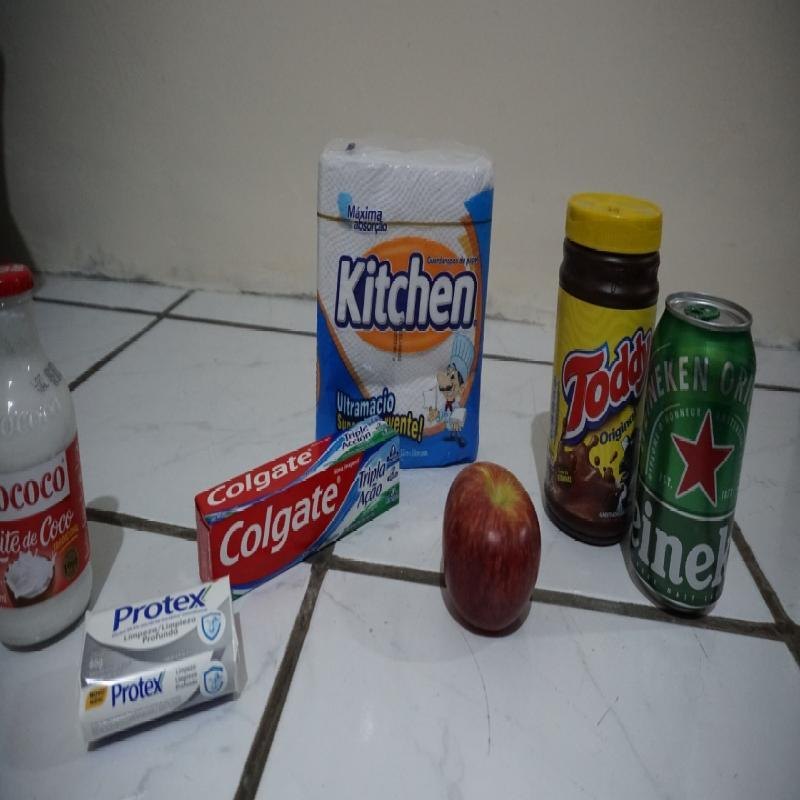Apple: (442, 457, 543, 632)
Beer can: (642, 291, 757, 612)
Chocolate Powder: (552, 192, 639, 541)
Coconut Milk: (0, 261, 82, 642)
Napkin: (318, 140, 495, 400)
Soap: (82, 574, 243, 738)
Toothpaste: (194, 416, 400, 557)
